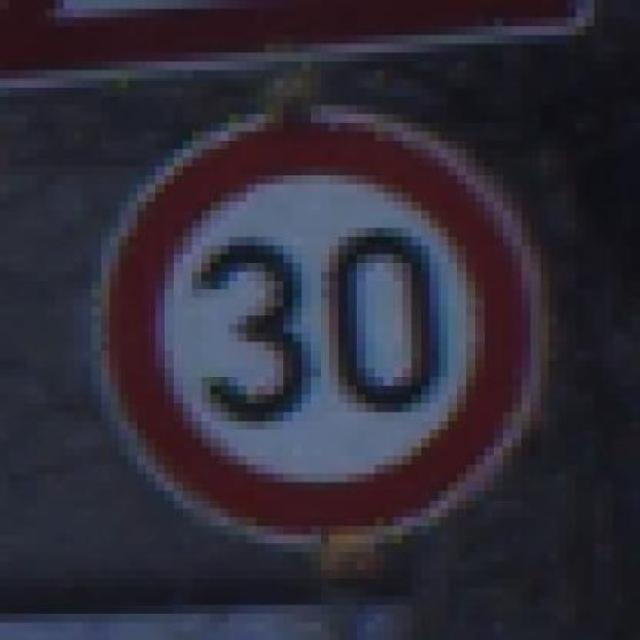Speed Limit 30 KMPh: (46, 105, 594, 570)
